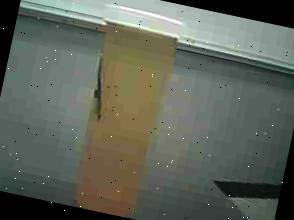Bottle A: (58, 0, 187, 220)
